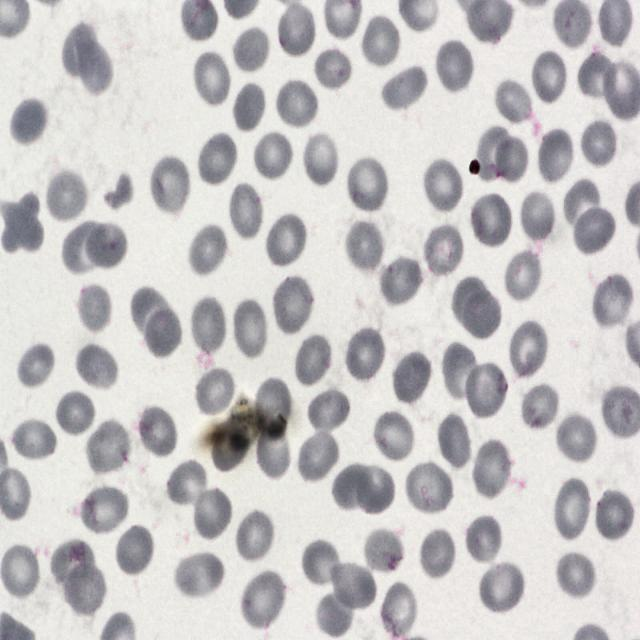red blood cell: (403, 458, 454, 518), (240, 569, 287, 632), (77, 482, 130, 537), (271, 273, 316, 337), (464, 359, 509, 422), (148, 154, 192, 218), (478, 558, 526, 616), (0, 192, 44, 255), (86, 417, 132, 477), (345, 154, 390, 215), (468, 192, 514, 251), (507, 318, 549, 381), (471, 438, 513, 501), (264, 211, 308, 270), (170, 550, 224, 598), (592, 272, 635, 332), (44, 168, 89, 225), (0, 540, 42, 601), (552, 478, 592, 542), (441, 340, 481, 404), (190, 484, 234, 542), (274, 77, 320, 132), (371, 408, 416, 464), (344, 324, 386, 384), (134, 404, 179, 460), (422, 157, 465, 215), (570, 202, 616, 256), (382, 578, 422, 640), (391, 348, 433, 407), (62, 563, 107, 618), (422, 222, 465, 279), (252, 376, 294, 434), (232, 297, 270, 361), (74, 342, 119, 396), (378, 254, 423, 308), (296, 429, 340, 484), (276, 0, 317, 59), (10, 414, 58, 464), (234, 508, 276, 565), (502, 246, 544, 303), (307, 386, 352, 439), (193, 364, 237, 418), (190, 294, 227, 358), (302, 129, 342, 188), (594, 487, 636, 543), (380, 63, 429, 111), (114, 523, 156, 578), (187, 223, 229, 278), (360, 14, 401, 70), (434, 38, 475, 94), (197, 131, 238, 187), (344, 219, 385, 275), (294, 332, 334, 389), (302, 538, 344, 592), (192, 46, 231, 104), (228, 182, 265, 243), (550, 549, 596, 598), (436, 412, 474, 471), (252, 129, 294, 182), (519, 188, 557, 246), (209, 416, 249, 471), (418, 527, 457, 583), (537, 128, 575, 185), (50, 540, 96, 587), (54, 387, 96, 438), (555, 408, 596, 460), (9, 96, 49, 149), (578, 117, 618, 170), (312, 44, 352, 97), (563, 177, 603, 230), (316, 585, 356, 638), (132, 284, 172, 337), (330, 563, 376, 609), (360, 525, 404, 573), (493, 76, 534, 127), (530, 49, 568, 104), (580, 55, 622, 104), (76, 282, 114, 336), (15, 341, 56, 391), (520, 383, 560, 434), (232, 25, 272, 76), (78, 38, 114, 94), (463, 290, 501, 343), (62, 221, 102, 271), (231, 80, 268, 134), (451, 276, 490, 327), (86, 222, 128, 269), (61, 22, 98, 75), (476, 127, 510, 183), (333, 464, 374, 509), (256, 424, 290, 477), (146, 308, 180, 360), (168, 464, 208, 508), (357, 466, 395, 512), (466, 513, 500, 561), (495, 134, 527, 184)
